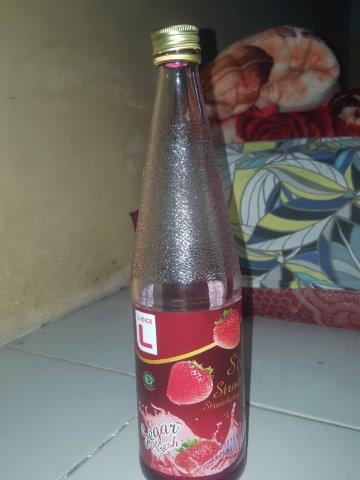botolkaca: (130, 24, 248, 480)
